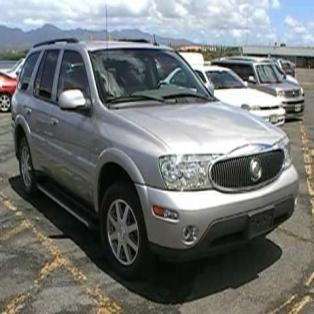Auto: (9, 35, 302, 280)
